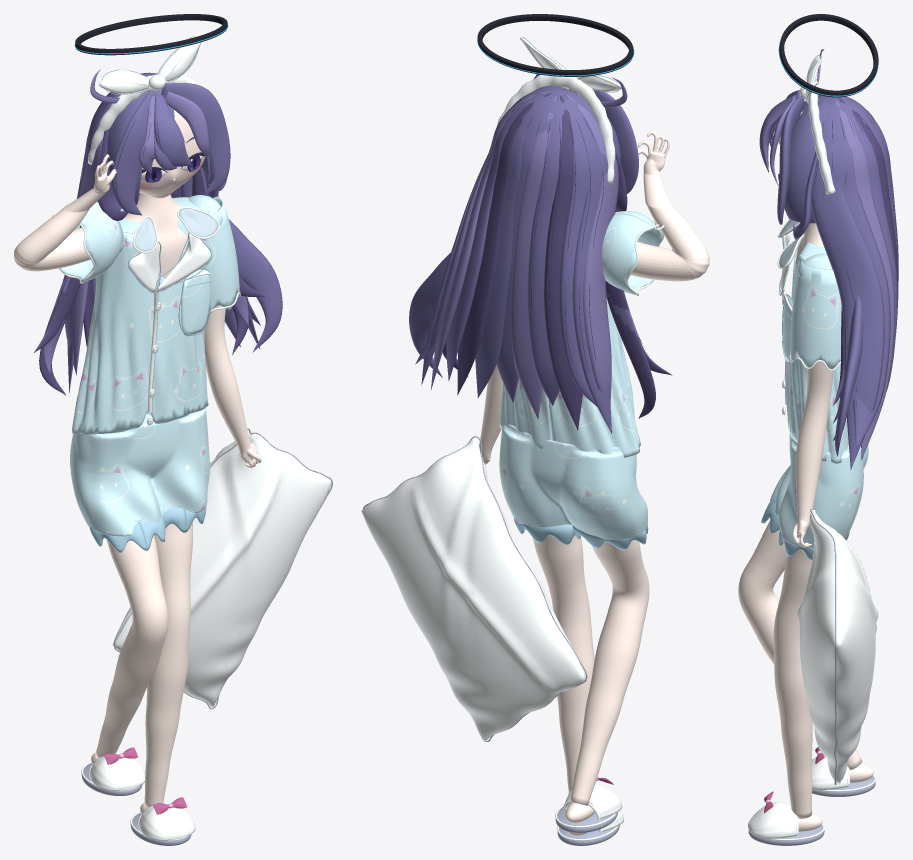
Rendered from gpt6-astra-pro_mcp-colabdev_blender_moonlit-pajamas_web.glb.
The picture shows the model from 3 angles, left to right: view 1: azimuth 30°, elevation 25°; view 2: azimuth 150°, elevation 25°; view 3: azimuth 270°, elevation 25°; orthographic projection. The views are drawn at different scales.
Parts seen in each view (by area): view 1: Accessory_inflated_cotton_pillow, Clothes_pajama_shirt, Clothes_soft_pajama_shorts, Body_front_leg, Body_rear_leg, Body_raised_arm_five_fingers, Body_relaxed_arm_five_fingers, HairLong_flowing_outer_curl, HairTop_right_outer_frame, HairTop_left_outer_fringe, Clothes_relaxed_scalloped_sleeve, Clothes_raised_scalloped_sleeve (+24 smaller); view 2: Accessory_inflated_cotton_pillow, Clothes_soft_pajama_shorts, Body_rear_leg, Clothes_pajama_shirt, Body_front_leg, Body_raised_arm_five_fingers, HairLong_layer_10, HairLong_layer_13, HairLong_layer_9, HairLong_layer_8, HairLong_layer_6, HairLong_layer_11 (+19 smaller); view 3: Accessory_inflated_cotton_pillow, HairLong_layer_1, Body_front_leg, Clothes_soft_pajama_shorts, Clothes_relaxed_scalloped_sleeve, Body_relaxed_arm_five_fingers, HairLong_layer_2, Body_rear_leg, HairTop_crown_cap, Clothes_pajama_shirt, HairLong_layer_3, HairLong_layer_4 (+20 smaller).
Boxes of the visible parts, x1,y1,x2,y2 form: Accessory_inflated_cotton_pillow: [112, 431, 331, 707]; Clothes_pajama_shirt: [71, 197, 211, 434]; Clothes_soft_pajama_shorts: [70, 408, 209, 536]; Body_front_leg: [144, 521, 192, 808]; Body_rear_leg: [95, 535, 168, 758]; Body_raised_arm_five_fingers: [14, 154, 116, 271]; Body_relaxed_arm_five_fingers: [204, 305, 261, 468]; HairLong_flowing_outer_curl: [181, 177, 282, 352]; HairTop_right_outer_frame: [161, 83, 230, 194]; HairTop_left_outer_fringe: [112, 90, 156, 215]; Clothes_relaxed_scalloped_sleeve: [199, 196, 239, 315]; Clothes_raised_scalloped_sleeve: [59, 201, 123, 282]; Accessory_inflated_cotton_pillow: [361, 437, 585, 742]; Clothes_soft_pajama_shorts: [499, 423, 647, 539]; Body_rear_leg: [570, 540, 649, 805]; Clothes_pajama_shirt: [499, 298, 640, 457]; Body_front_leg: [532, 535, 594, 792]; Body_raised_arm_five_fingers: [631, 131, 709, 281]; HairLong_layer_10: [544, 95, 582, 430]; HairLong_layer_13: [566, 94, 618, 402]; HairLong_layer_9: [527, 95, 561, 405]; HairLong_layer_8: [511, 95, 556, 419]; HairLong_layer_6: [475, 93, 552, 397]; HairLong_layer_11: [559, 95, 596, 406]; Accessory_inflated_cotton_pillow: [797, 510, 878, 784]; HairLong_layer_1: [811, 99, 884, 469]; Body_front_leg: [773, 550, 812, 818]; Clothes_soft_pajama_shorts: [770, 434, 868, 547]; Clothes_relaxed_scalloped_sleeve: [790, 261, 841, 369]; Body_relaxed_arm_five_fingers: [792, 361, 833, 547]; HairLong_layer_2: [831, 99, 890, 449]; Body_rear_leg: [738, 520, 862, 770]; HairTop_crown_cap: [784, 95, 874, 223]; Clothes_pajama_shirt: [785, 240, 848, 463]; HairLong_layer_3: [835, 99, 894, 459]; HairLong_layer_4: [837, 98, 897, 391].
Size of the model in its own units: 3.19 by 7.37 by 1.35.
Materials: 21 (3 with a texture image).
